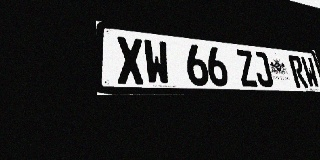6: (184, 43, 210, 86), (204, 46, 230, 86)
J: (251, 51, 274, 87)
R: (288, 55, 309, 88)
W: (143, 39, 171, 85), (300, 56, 320, 88)
X: (116, 36, 145, 85)
Z: (235, 49, 259, 87)
